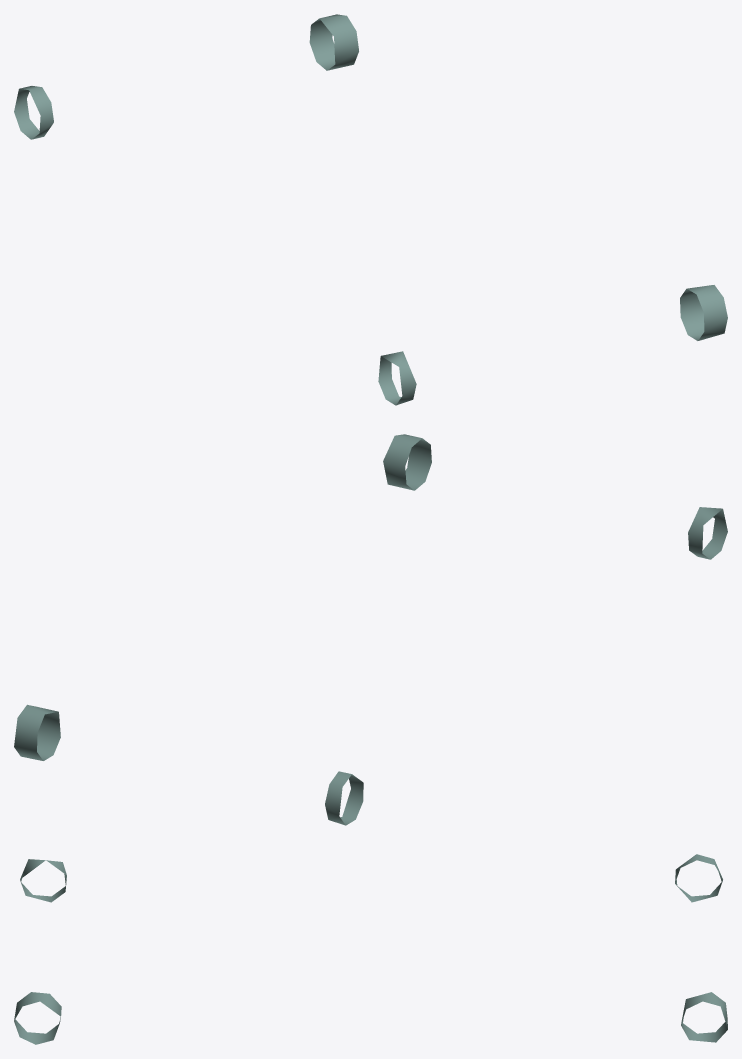
The model's file is m_jet_8ef7a4a1.glb.
The picture shows the model from 3 angles, top to bottom: view 1: azimuth 30°, elevation 25°; view 2: azimuth 150°, elevation 25°; view 3: azimuth 270°, elevation 25°; orthographic projection. The views are drawn at different scales.
Parts seen in each view (by area): view 1: mesh; view 2: mesh; view 3: mesh.
Boxes of the visible parts, bbox=[...] form: mesh: bbox=[14, 14, 727, 405]; mesh: bbox=[14, 434, 727, 825]; mesh: bbox=[14, 854, 727, 1044].
Bounding box in the file's own units: 1135 × 185 × 2410.
